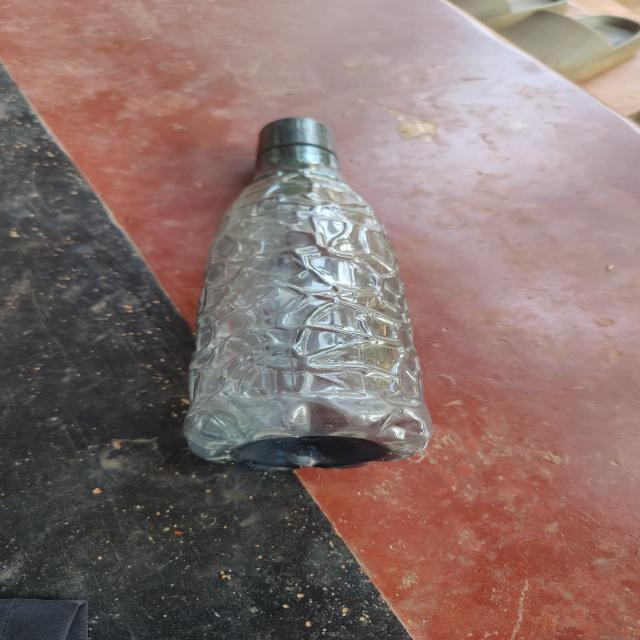plastic: (173, 114, 441, 468)
